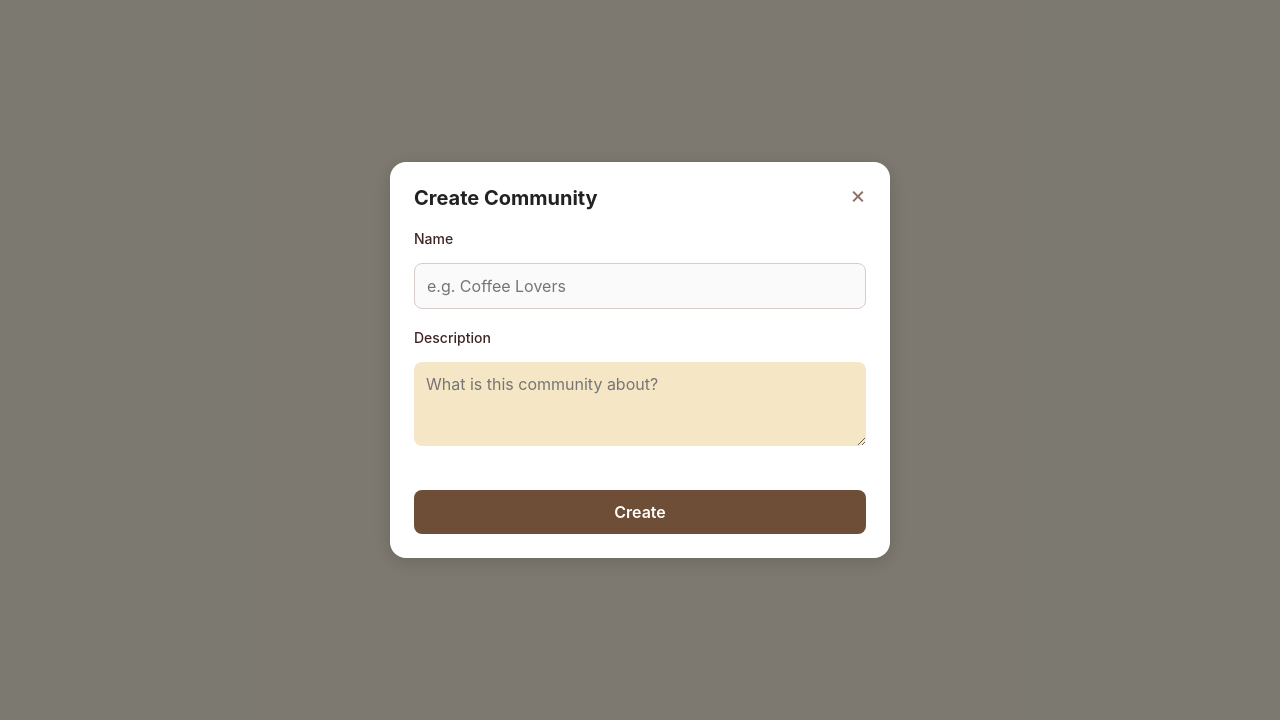
Test case: CreateCommunityModal - Loading States › dovrebbe disabilitare il pulsante durante il submit
The image size is (1280, 720).
Type "Test Community" into the field with placeholder "e.g. Coffee Lovers" at (640, 286), box [414,263,866,309]
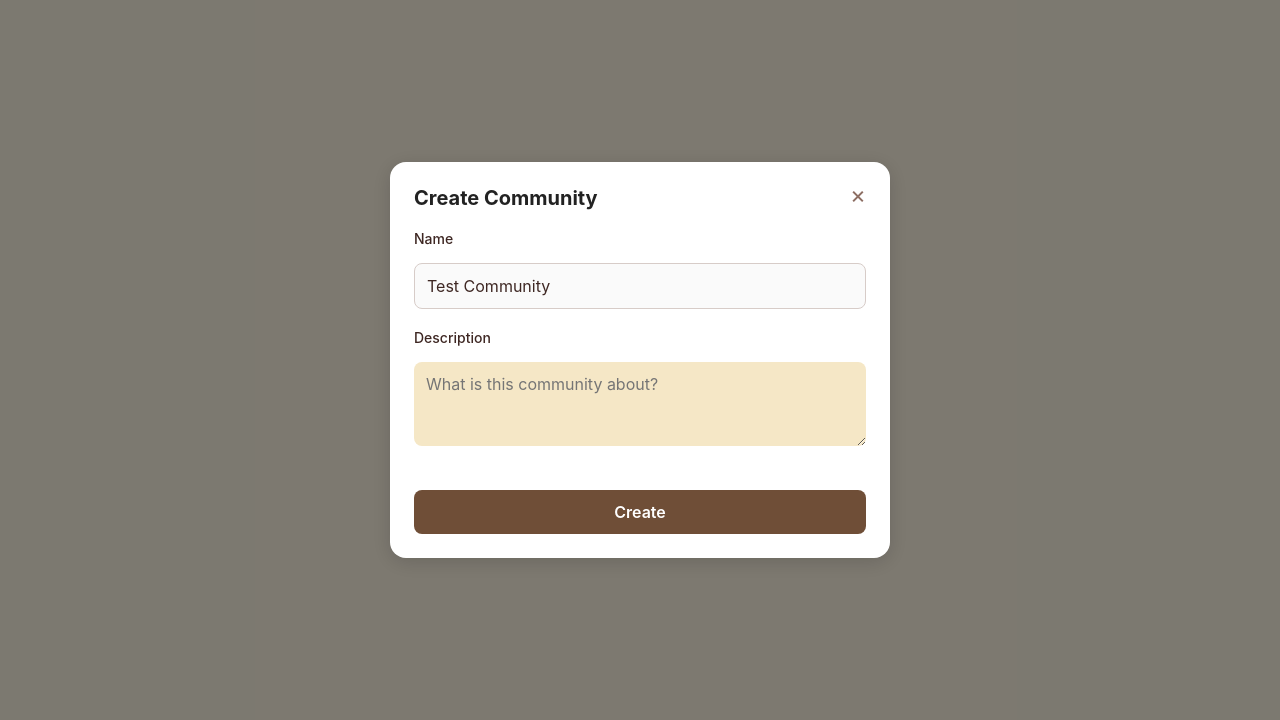
Click the button "Create" at (640, 512), box [414,490,866,534]
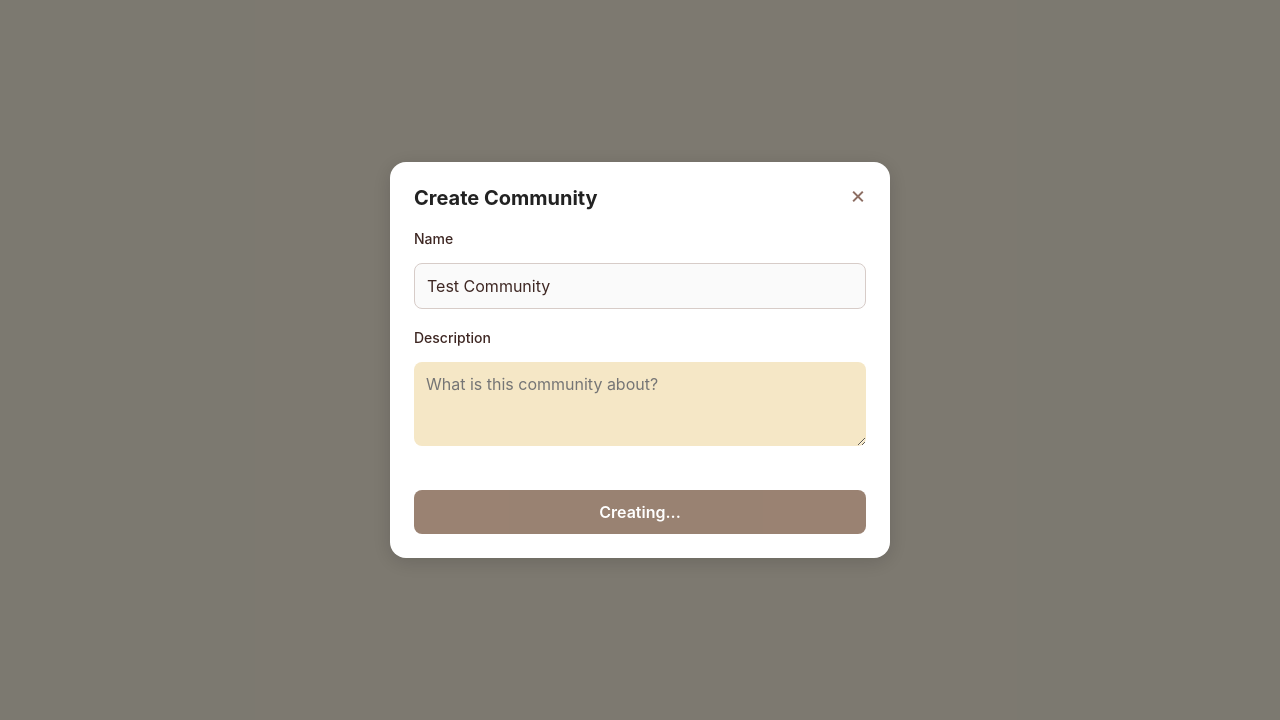
Expected: the button named "Create" is disabled, [414,490,866,534]
